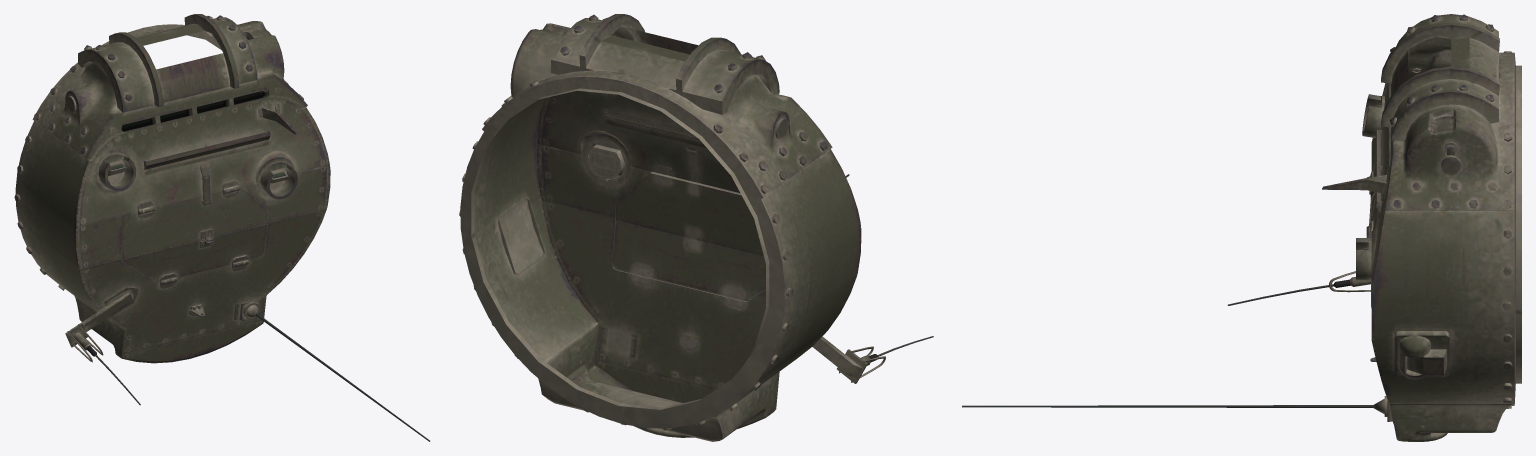
File: Turret_01.glb
The picture shows the model from 3 angles, left to right: view 1: azimuth 30°, elevation 25°; view 2: azimuth 150°, elevation 25°; view 3: azimuth 270°, elevation 25°; orthographic projection. The views are drawn at different scales.
Parts seen in each view (by area): view 1: set_0_group_0; view 2: set_0_group_0; view 3: set_0_group_0.
Boxes of the visible parts, box(x1,y1,x2,y2) form: set_0_group_0: box(14, 14, 430, 441); set_0_group_0: box(459, 14, 933, 441); set_0_group_0: box(962, 14, 1521, 441).
Bounding box in the file's own units: 1.57 × 1.76 × 2.36.
Materials: 1 (1 with a texture image).
